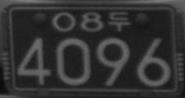0: (55, 37, 91, 86), (51, 11, 76, 33)
4: (16, 37, 51, 85)
6: (136, 37, 171, 87)
8: (80, 11, 103, 32)
9: (96, 37, 130, 87)
두: (108, 10, 131, 31)
